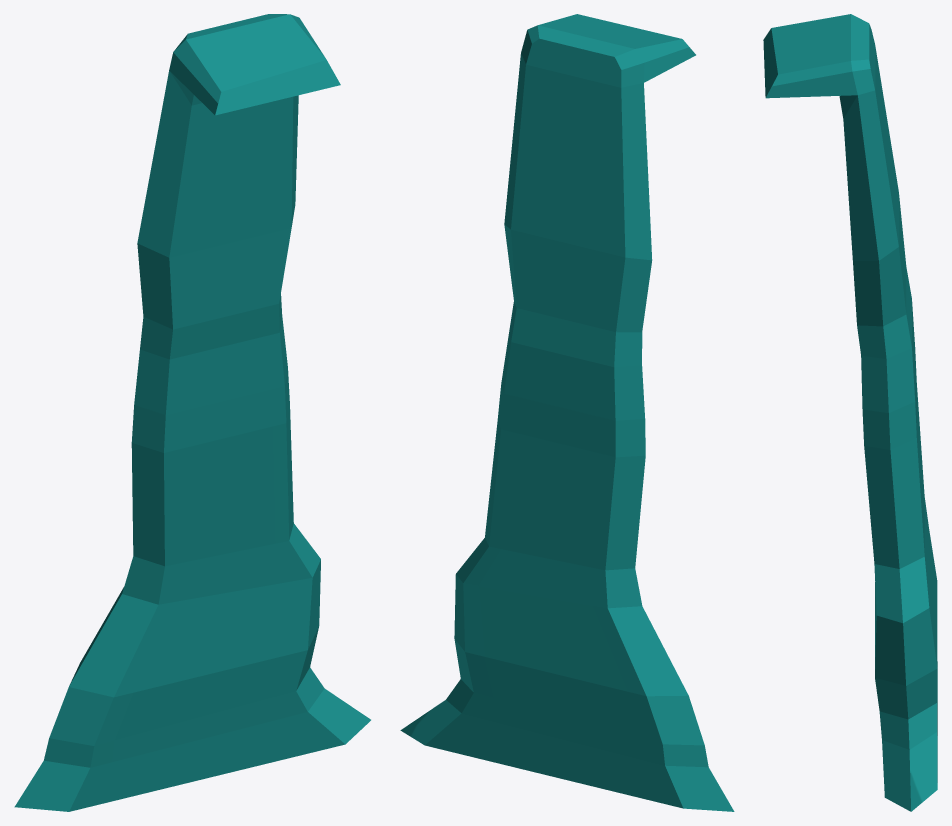
Rendered from CascadaAnimada_000016.obj.
3 renders of one model, left to right at view 1: azimuth 30°, elevation 25°; view 2: azimuth 150°, elevation 25°; view 3: azimuth 270°, elevation 25°, orthographic. The views are drawn at different scales.
Visible parts, largest first — view 1: Cube.053, Cube.054; view 2: Cube.053, Cube.054; view 3: Cube.053, Cube.054.
Boxes of the visible parts, x1,y1,x2,y2 form: Cube.053: [14, 14, 370, 811]; Cube.054: [169, 14, 340, 115]; Cube.053: [400, 25, 734, 811]; Cube.054: [538, 14, 695, 82]; Cube.053: [839, 14, 937, 811]; Cube.054: [763, 14, 857, 98].
Size of the model in its own units: 136 by 277 by 62.23.
